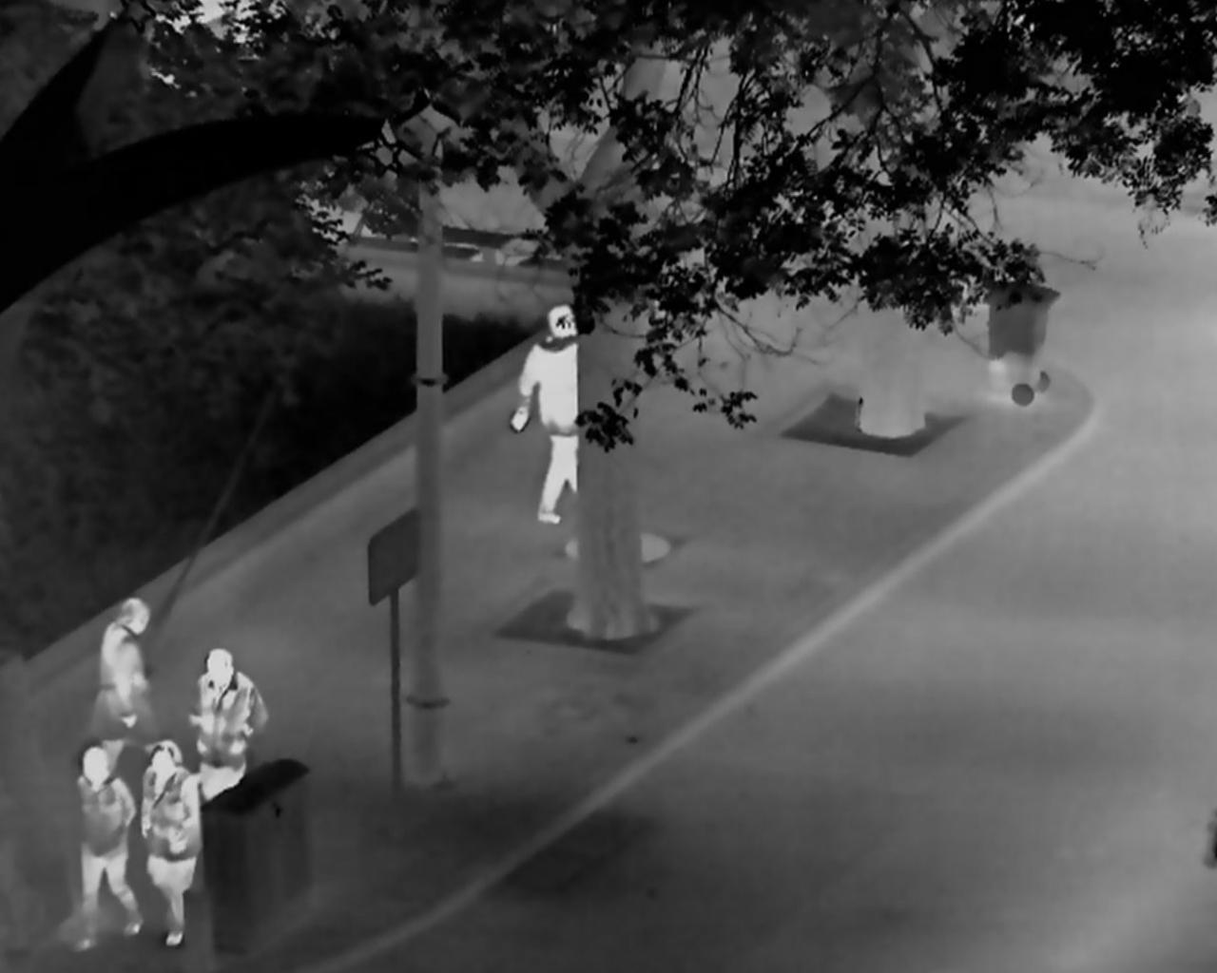person: (510, 303, 580, 525), (71, 746, 145, 951), (89, 597, 170, 777), (138, 739, 203, 949), (188, 648, 268, 799)
